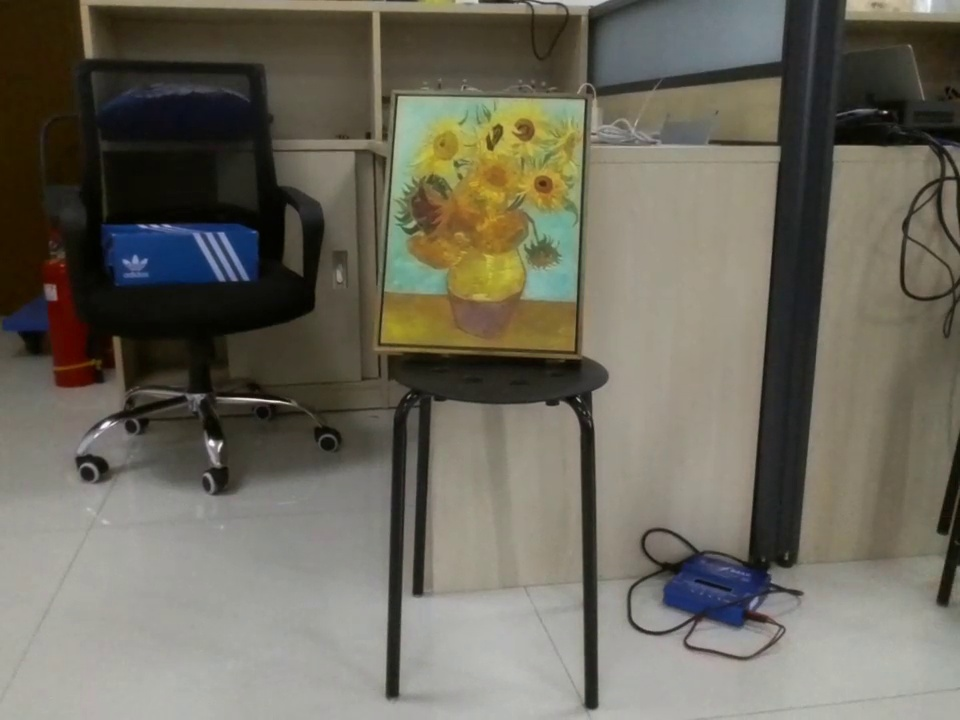painting: (376, 91, 596, 361)
